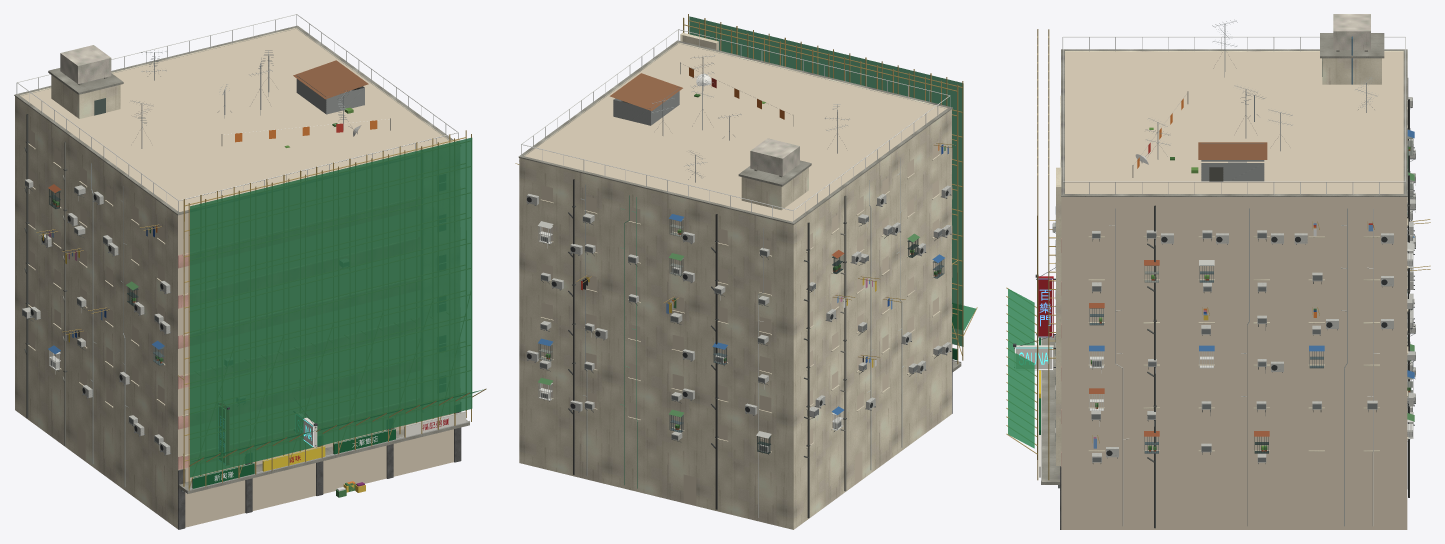
File: striped-walkup.glb
3 views of the same model, side by side, from view 1: azimuth 30°, elevation 25°; view 2: azimuth 150°, elevation 25°; view 3: azimuth 270°, elevation 25° (orthographic). The views are drawn at different scales.
Parts seen in each view (by area): view 1: Scaffold_net, LOD_vc, Building_wall, Building_vc, Building_metal, Building_slab, Building_board, Scaffold_bamboo, Building_ac, Building_granite, Building_tank, Building_tin (+1 smaller); view 2: Building_wall, LOD_vc, Scaffold_net, Building_vc, Building_metal, Building_ac, Building_slab, Scaffold_bamboo, Building_tank, Building_tin; view 3: LOD_vc, Building_metal, Building_vc, Building_slab, Building_wall, Building_ac, Scaffold_net, Scaffold_bamboo, Building_board, Building_tank, Building_tin.
Boxes of the visible parts, left/top/right/bottom form: Scaffold_net: left=190, top=137, right=483, bottom=477; LOD_vc: left=21, top=29, right=453, bottom=527; Building_wall: left=15, top=28, right=459, bottom=528; Building_vc: left=24, top=60, right=389, bottom=497; Building_metal: left=16, top=14, right=469, bottom=491; Building_slab: left=14, top=25, right=469, bottom=493; Building_board: left=192, top=411, right=466, bottom=488; Scaffold_bamboo: left=178, top=130, right=486, bottom=490; Building_ac: left=22, top=179, right=170, bottom=454; Building_granite: left=178, top=411, right=461, bottom=529; Building_tank: left=60, top=45, right=111, bottom=83; Building_tin: left=296, top=74, right=364, bottom=114; Building_wall: left=519, top=32, right=951, bottom=529; LOD_vc: left=525, top=43, right=946, bottom=505; Scaffold_net: left=689, top=16, right=975, bottom=346; Building_vc: left=538, top=64, right=948, bottom=518; Building_metal: left=521, top=29, right=961, bottom=454; Building_ac: left=526, top=185, right=951, bottom=452; Building_slab: left=518, top=40, right=961, bottom=371; Scaffold_bamboo: left=683, top=14, right=977, bottom=364; Building_tank: left=750, top=138, right=799, bottom=176; Building_tin: left=613, top=87, right=679, bottom=125; LOD_vc: left=1061, top=52, right=1407, bottom=529; Building_metal: left=1013, top=20, right=1415, bottom=488; Building_vc: left=1089, top=36, right=1415, bottom=528; Building_slab: left=1041, top=33, right=1407, bottom=484; Building_wall: left=1056, top=51, right=1408, bottom=465; Building_ac: left=1053, top=97, right=1415, bottom=462; Scaffold_net: left=1008, top=288, right=1034, bottom=448; Scaffold_bamboo: left=1006, top=29, right=1055, bottom=480; Building_board: left=1014, top=276, right=1053, bottom=477; Building_tank: left=1333, top=14, right=1370, bottom=50; Building_tin: left=1201, top=143, right=1264, bottom=181.
Size of the model in its own units: 25 by 27 by 27.02.
Materials: 21 (8 with a texture image).
